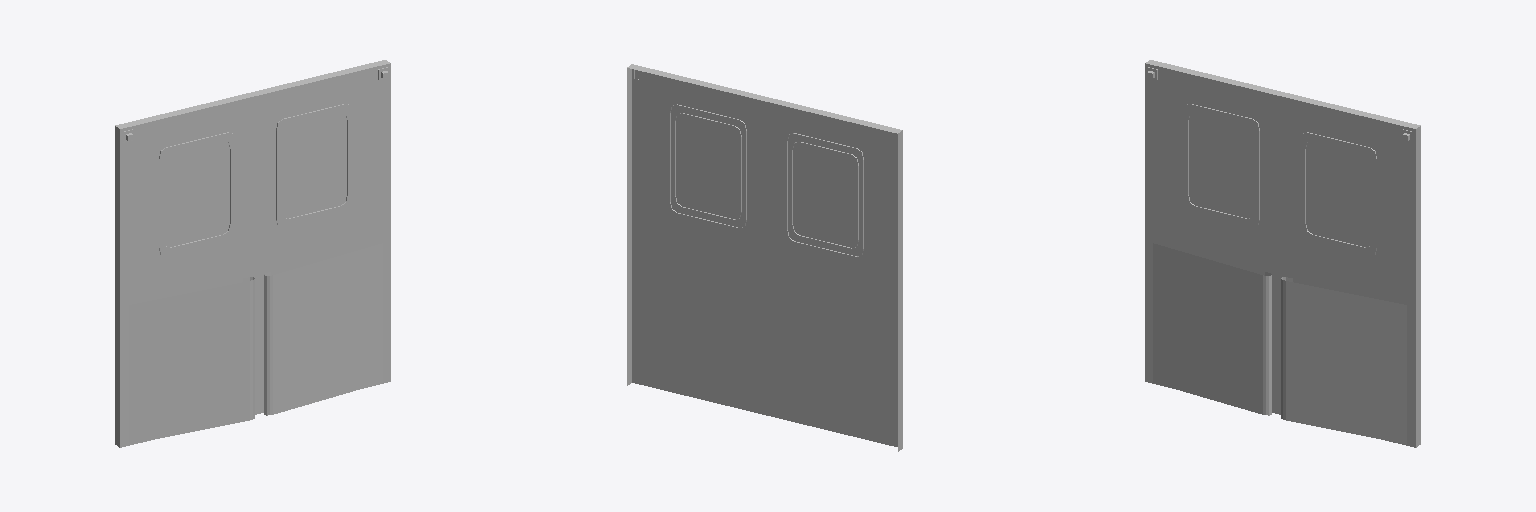
Rendered from normal people door.obj.
3 renders of one model, left to right at view 1: azimuth 30°, elevation 25°; view 2: azimuth 150°, elevation 25°; view 3: azimuth 330°, elevation 25°, orthographic.
Parts seen in each view (by area): view 1: Normal_People_Door; view 2: Normal_People_Door; view 3: Normal_People_Door.
Part boxes in pixels (x1,y1,x2,y2): Normal_People_Door: (115,60,390,447); Normal_People_Door: (627,64,902,451); Normal_People_Door: (1145,60,1420,447).
Bounding box in the file's own units: 71.53 × 80.46 × 5.13.